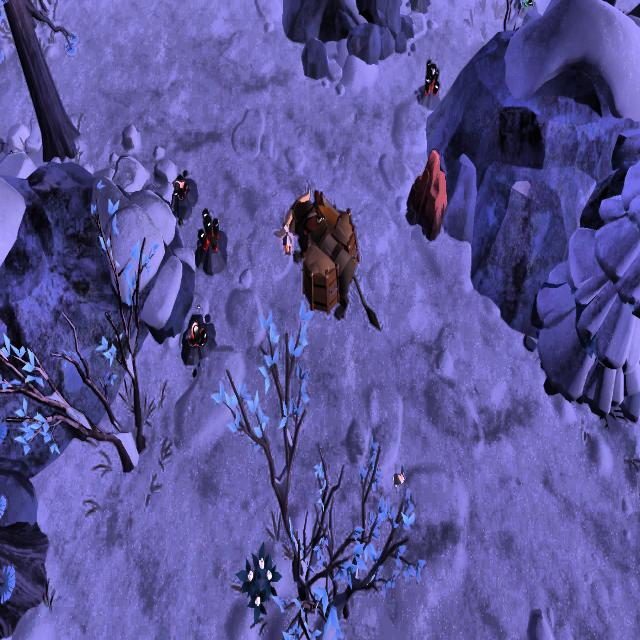fiber_t4: (239, 548, 278, 617)
ore_t5: (198, 207, 220, 252), (422, 56, 442, 101)
rock_t5: (404, 149, 448, 241)
